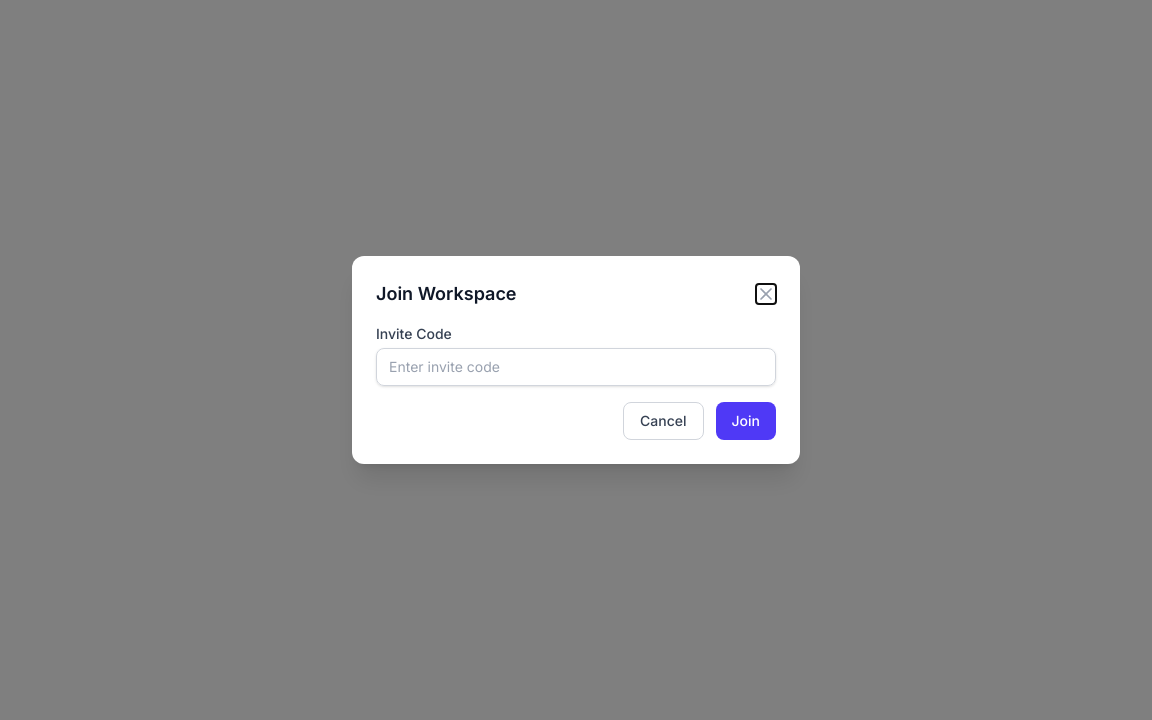
Test case: JoinWorkspaceModal › shows error on failed join
Type "BAD" into the field labelled "Invite Code" at (576, 367), box [376,348,776,386]
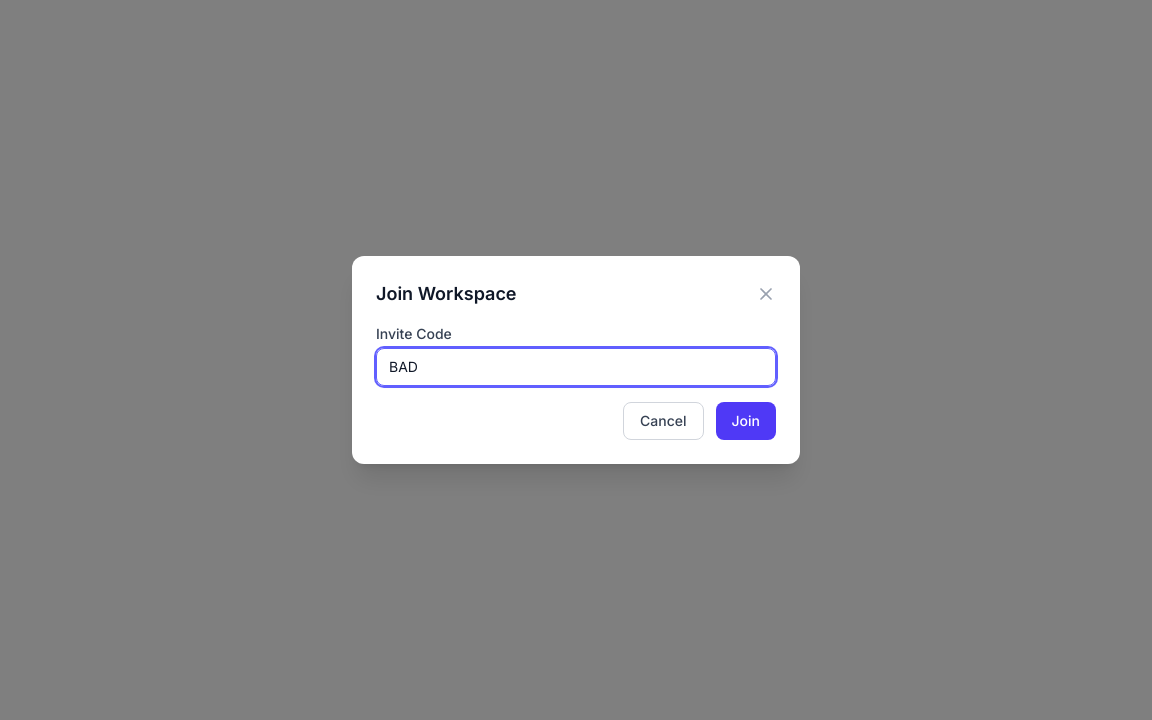
Click the button "Join" at (746, 421), box [716,402,776,440]
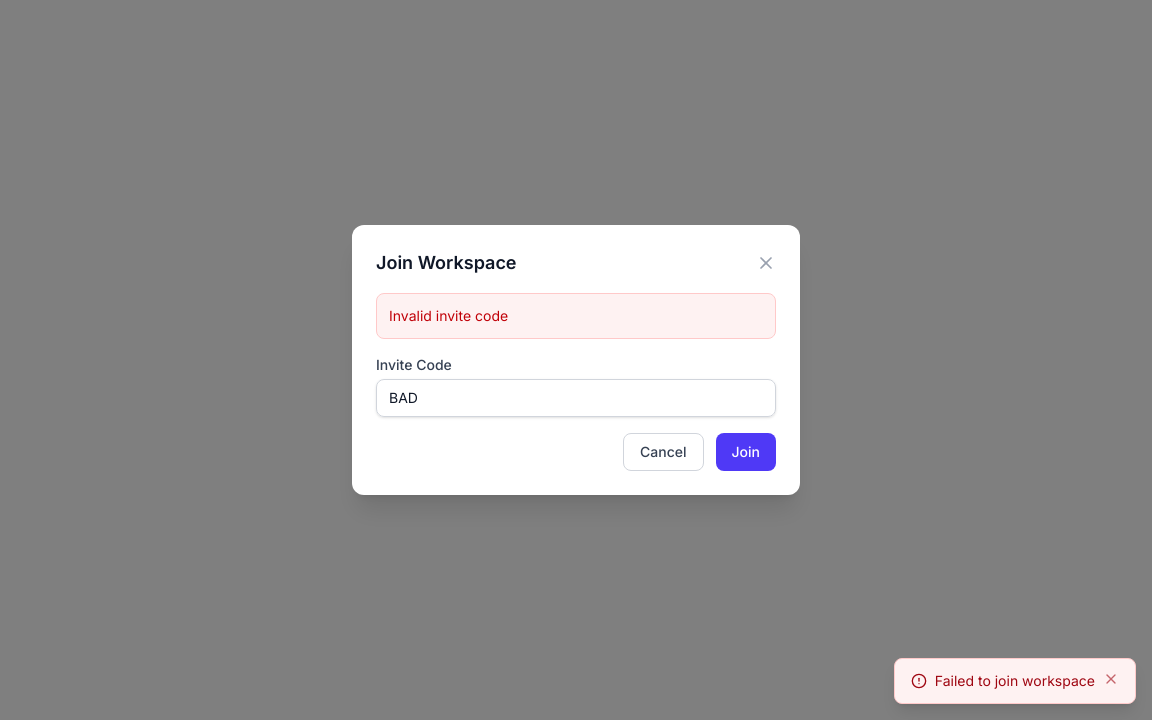
Now the text "Invalid invite code" is shown, box [376,293,776,339]
Now the text "Failed to join workspace" is shown, box [935,671,1095,691]
